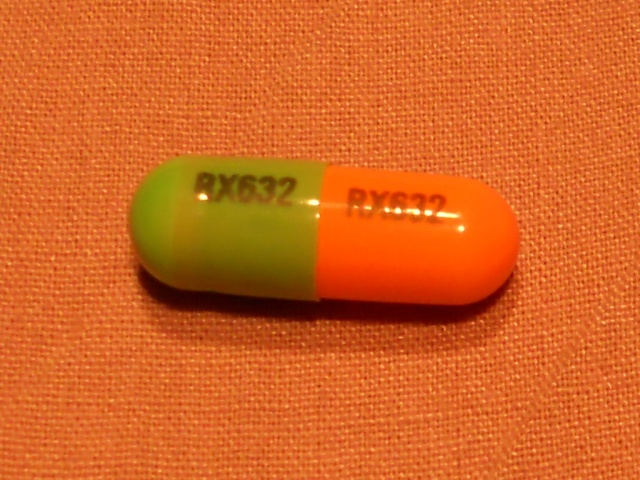capsule: (127, 159, 522, 309)
